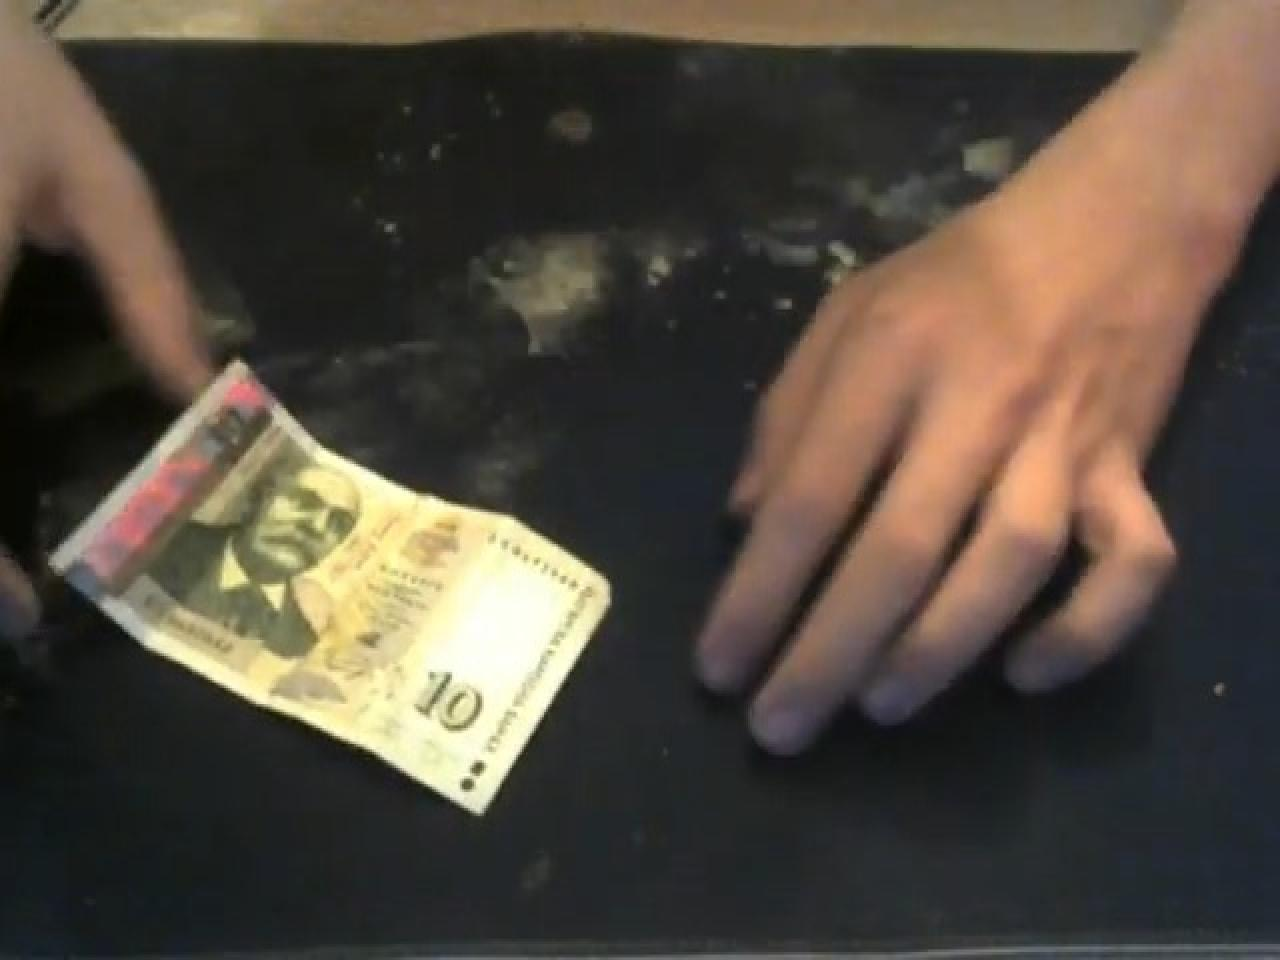10leva: (40, 363, 614, 819), (63, 372, 612, 799)
